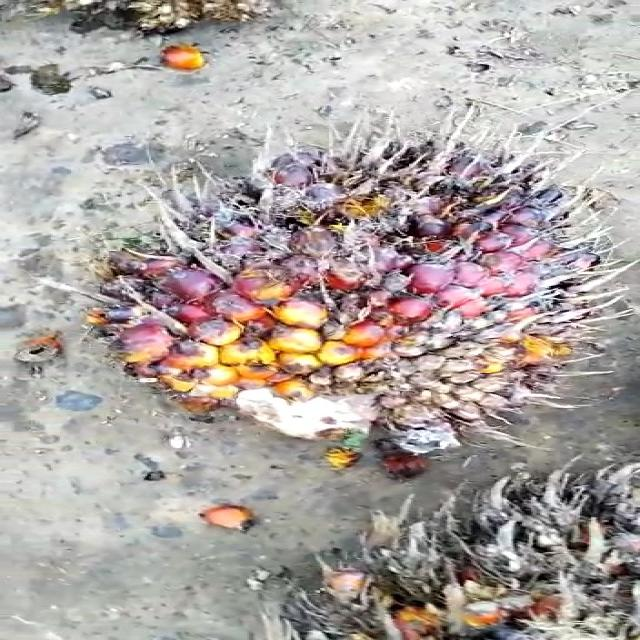palm oil: (88, 115, 640, 471)
